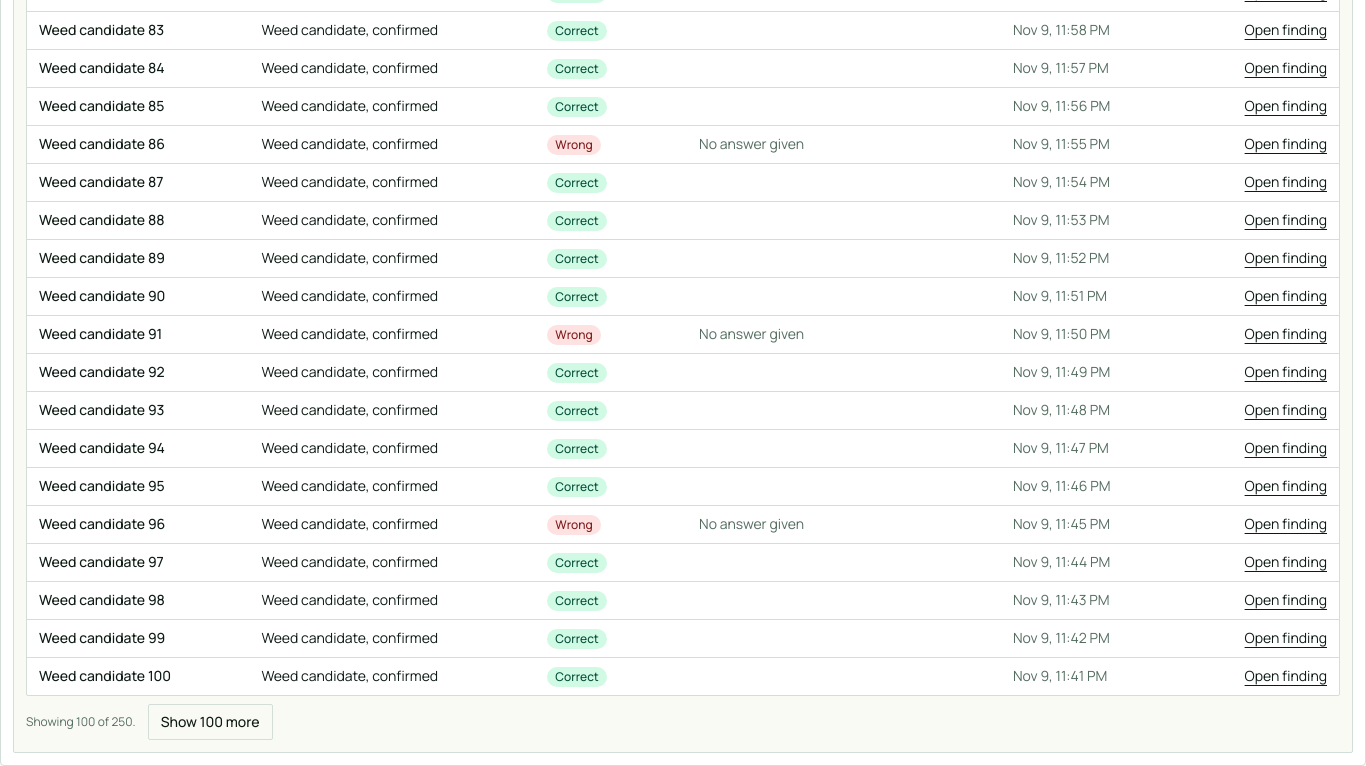
Test case: the Reviews tab › hundreds of reviews in one Field Twin come a page at a time
(page scrolled)
Click the button "Show 100 more": (210, 722) 148,704 -> 273,740
(page scrolled)
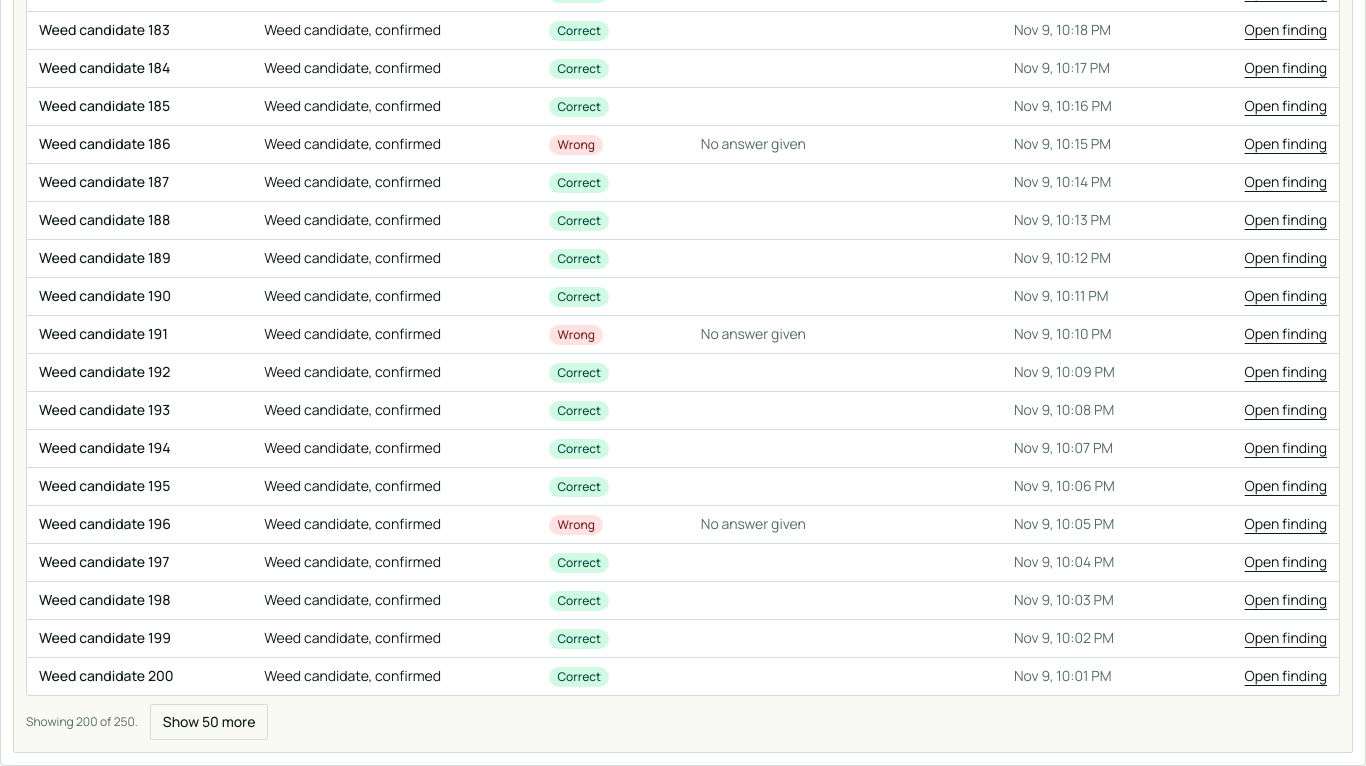
Click the button "Show 50 more": (209, 722) 150,704 -> 268,740
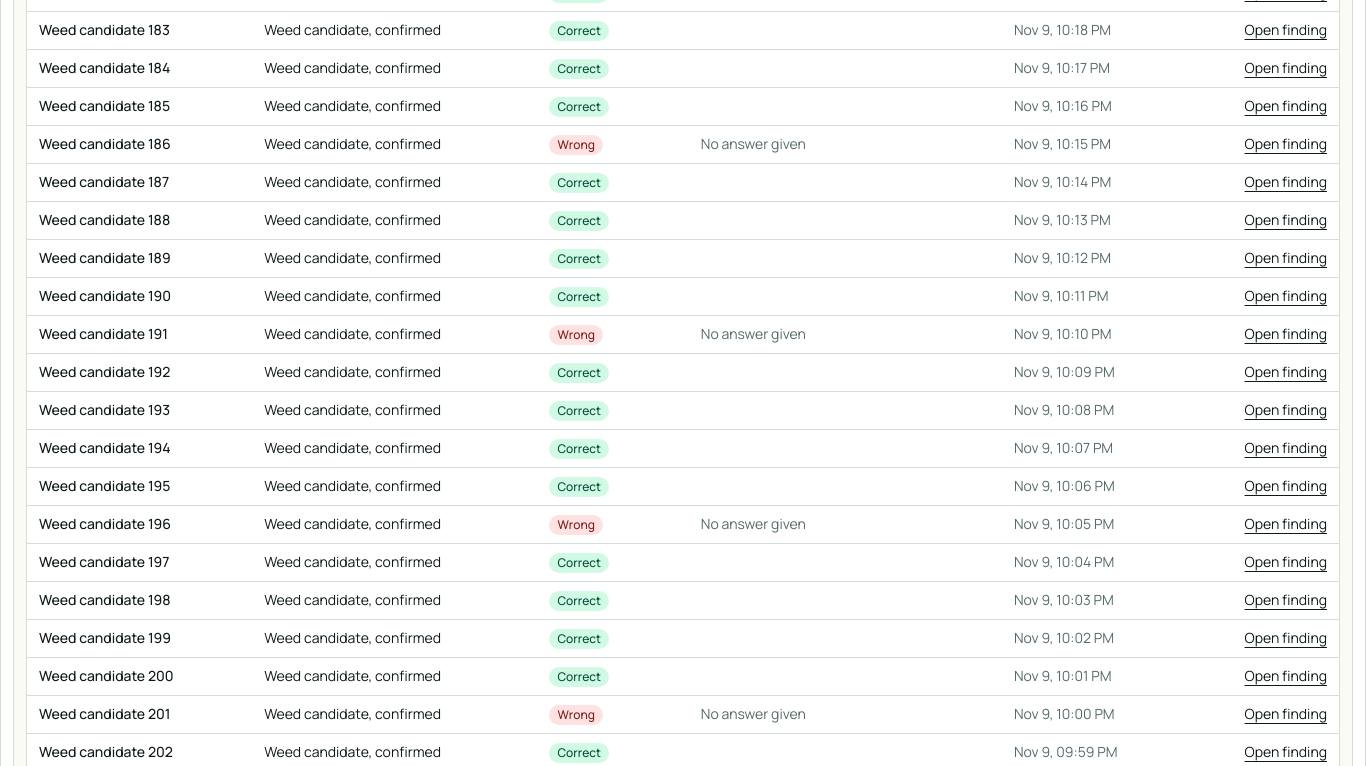
Result: the button "more" is gone
